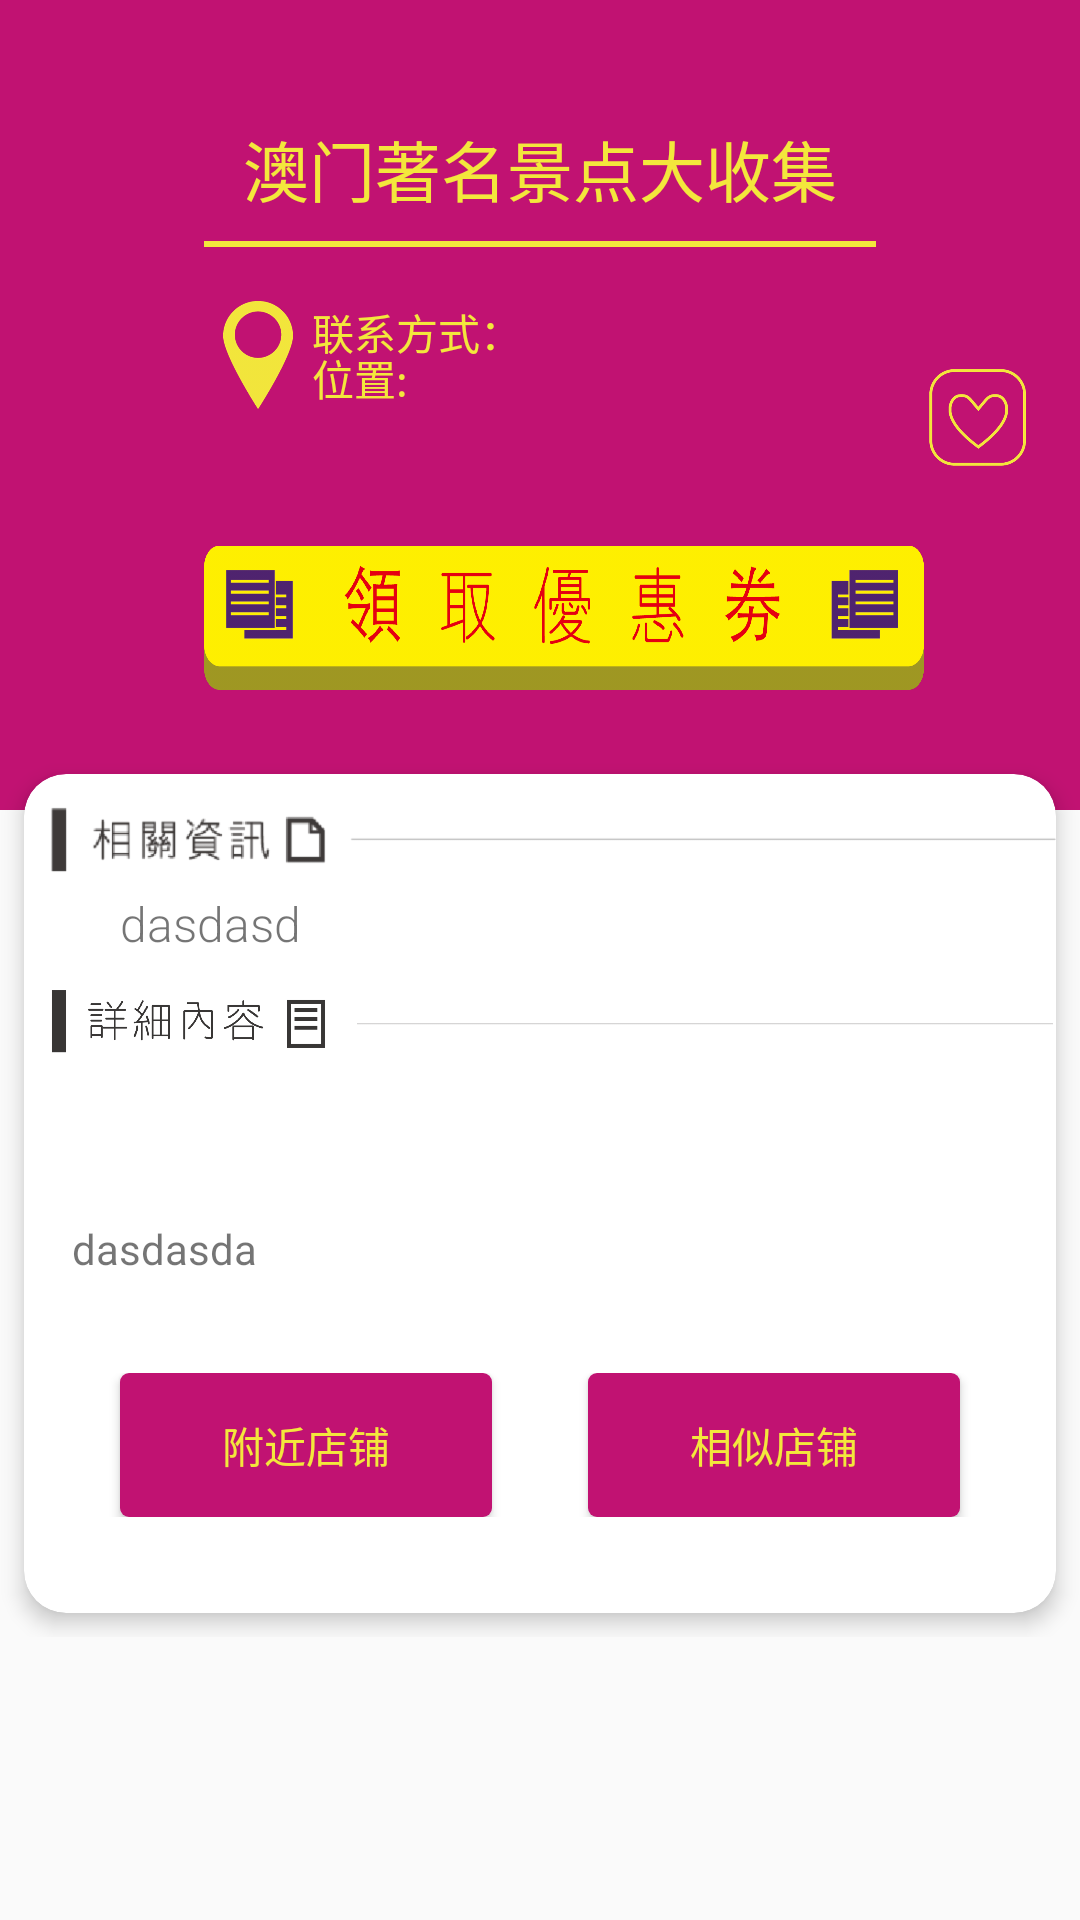

Point at icon controls on the screen. Image size 1080px x 1920px, points as (x=x, y=y).
collect: (x=977, y=417)
